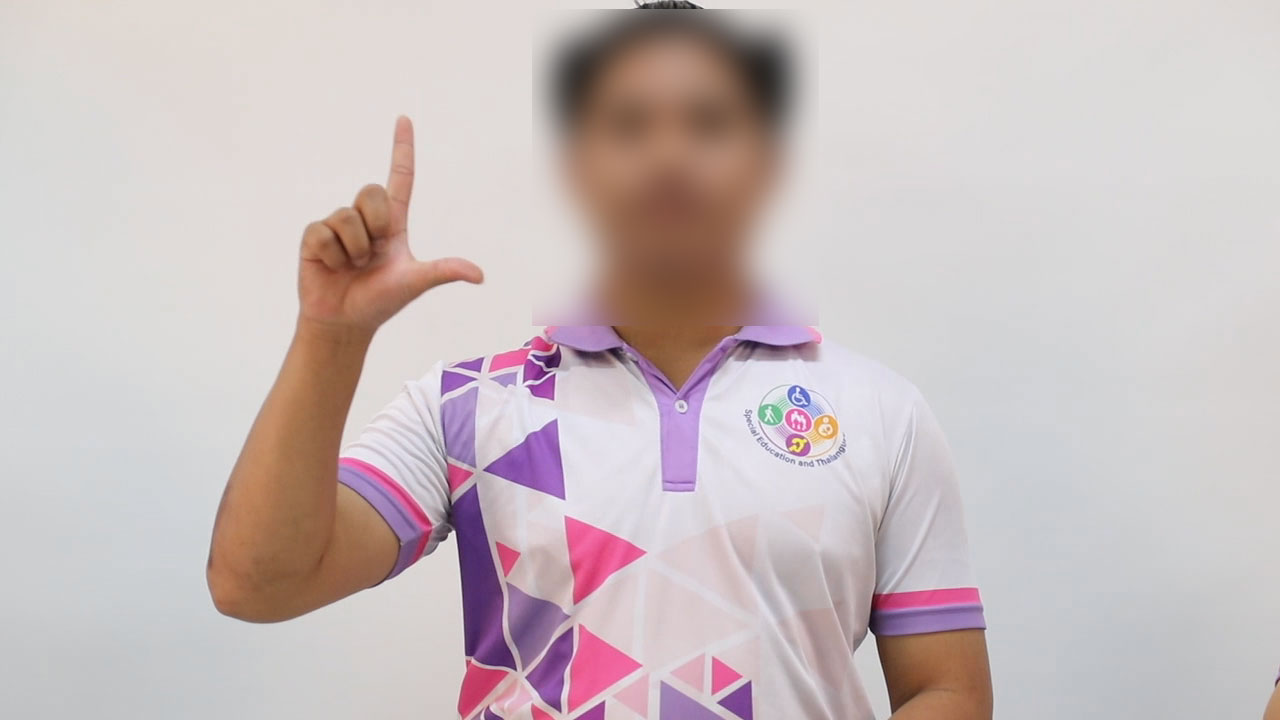lor: (281, 108, 498, 338)
